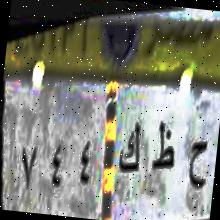4: (75, 136, 94, 191), (48, 137, 66, 191)
7: (15, 140, 38, 194)
7aa: (182, 135, 210, 195)
Thaa: (144, 114, 180, 184)
kaaf: (115, 118, 145, 182)
